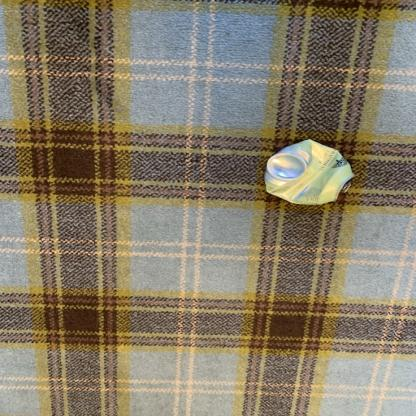trash: (263, 140, 355, 206)
